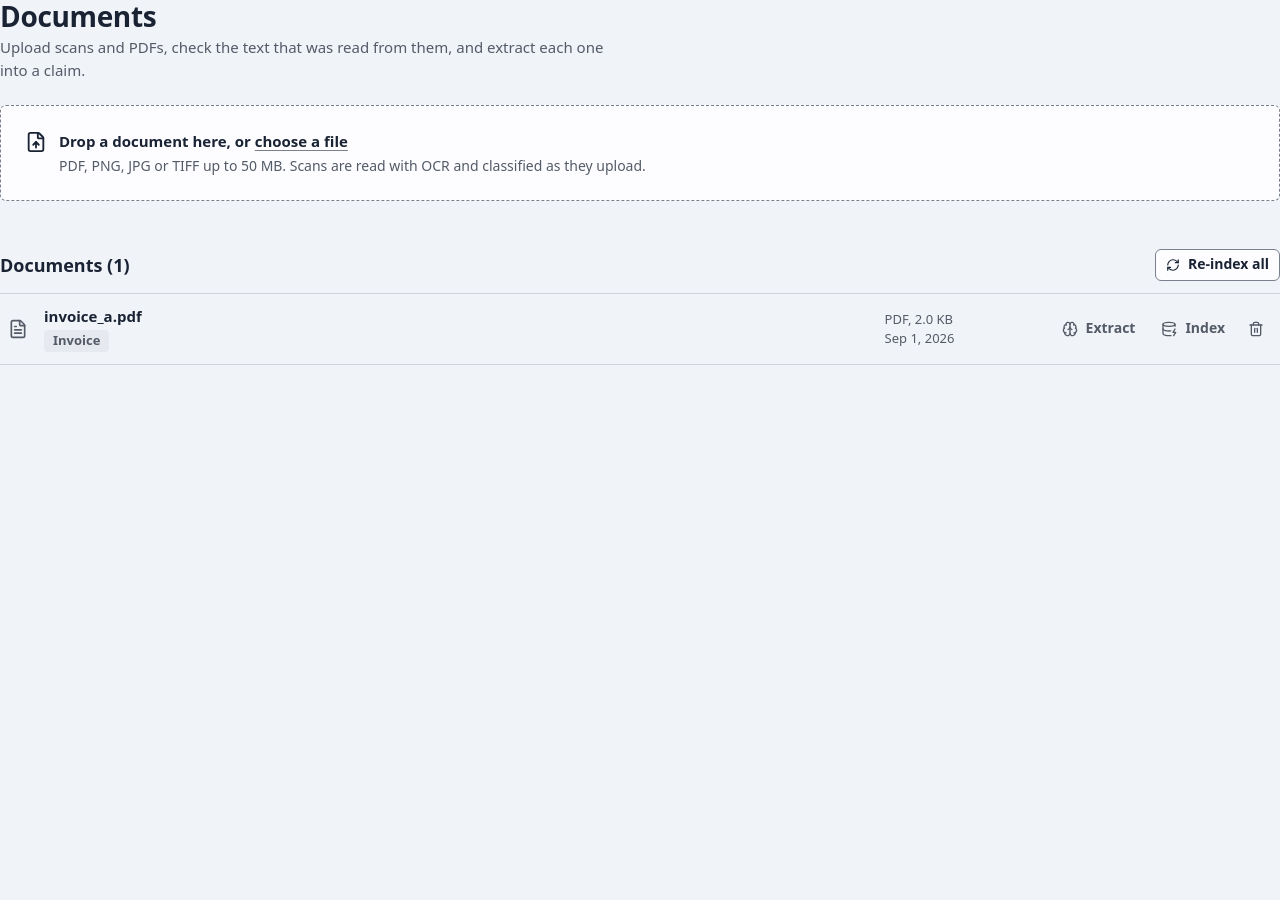
Test case: DocumentsPage › shows extracted fields and indexes the document for search
Click the button with aria-label "Extract claim data from invoice_a.pdf" at (1098, 329), box [1051, 313, 1146, 345]
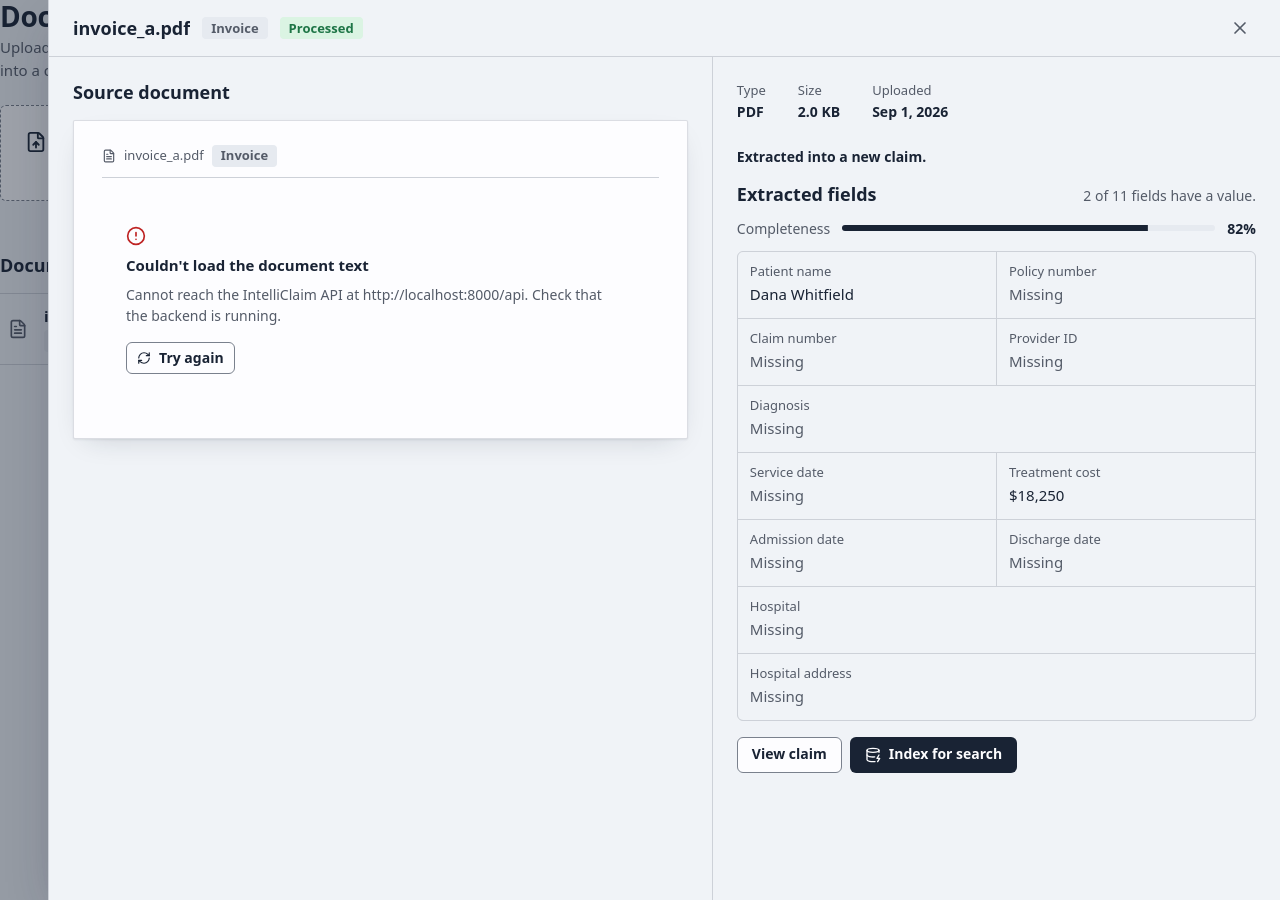
Expected: the text "Dana Whitfield" is shown, [750, 284, 854, 304]
Expected: the text "$18,250" is shown, [1009, 485, 1064, 505]
Expected: the text "Completeness" is shown, [737, 218, 830, 238]
Click the button "Index for search" at (934, 754), box [850, 736, 1017, 772]
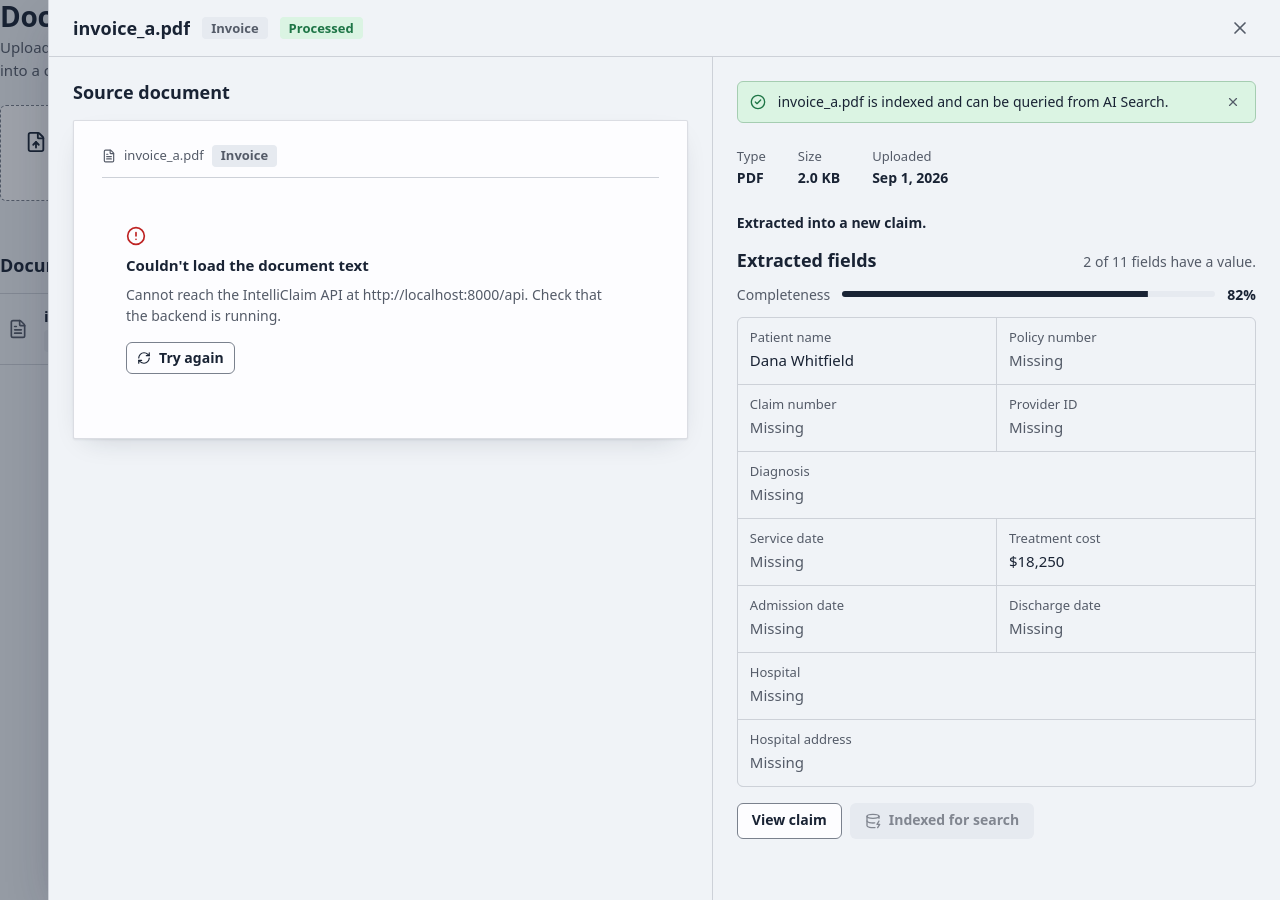
Expected: the text "invoice_a.pdf is indexed and can be queried from AI Search." is shown, [778, 92, 1207, 112]
Expected: the button "Indexed for search" is disabled, [850, 803, 1034, 839]
